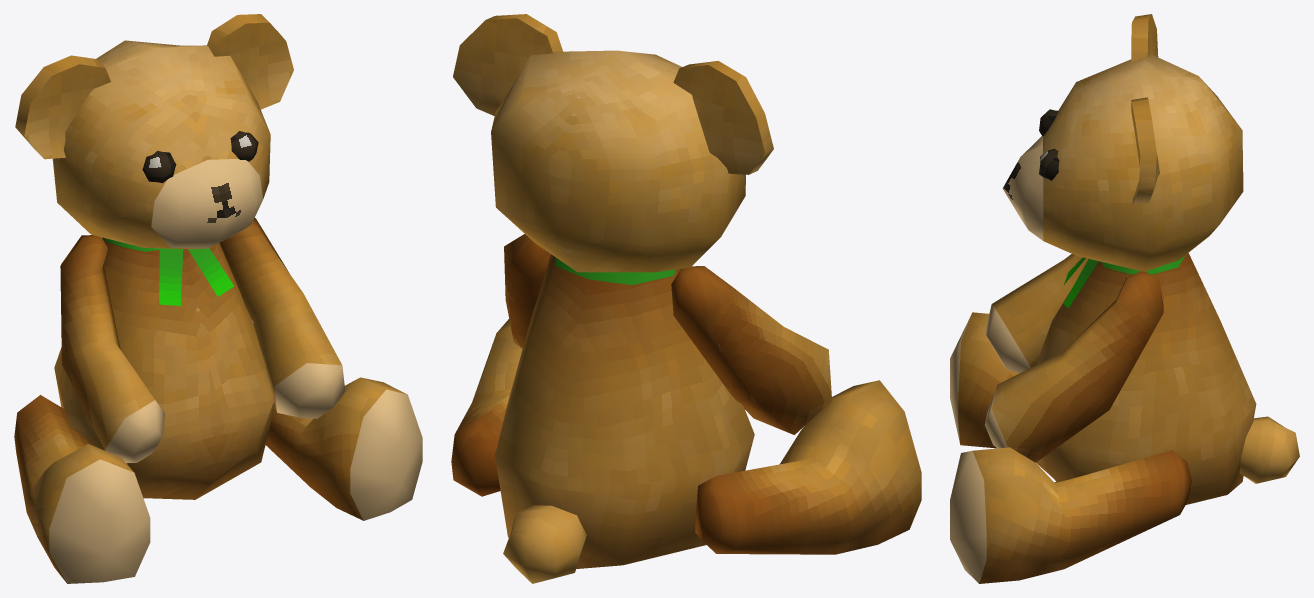
Rendered from PlushDoll.fbx.
3 renders of one model, left to right at view 1: azimuth 30°, elevation 25°; view 2: azimuth 150°, elevation 25°; view 3: azimuth 270°, elevation 25°, orthographic. The views are drawn at different scales.
Parts seen in each view (by area): view 1: PlushDoll; view 2: PlushDoll; view 3: PlushDoll.
Part boxes in pixels (x1,y1,x2,y2): PlushDoll: [14, 14, 422, 583]; PlushDoll: [451, 14, 921, 583]; PlushDoll: [950, 14, 1299, 583].
Size of the model in its own units: 0.788 by 0.8964 by 0.6455.
